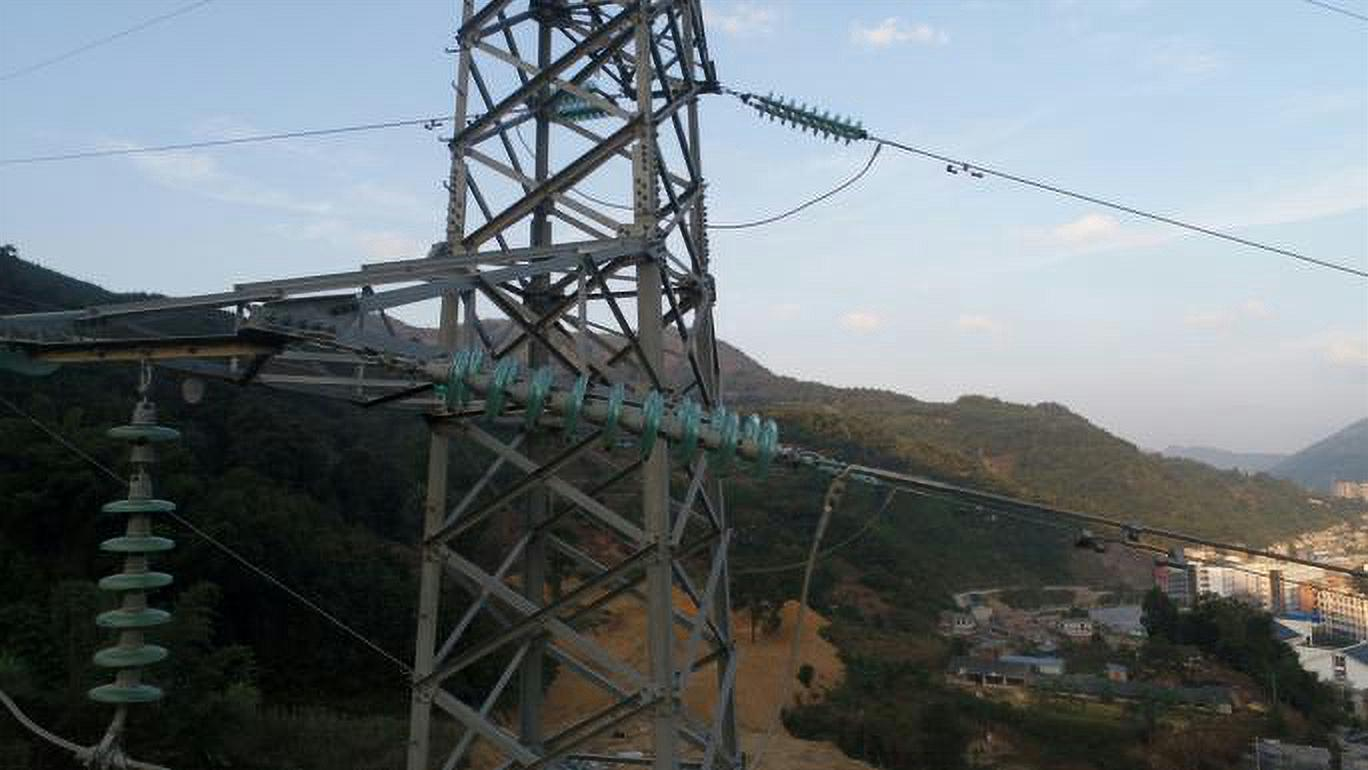insulator: (437, 344, 783, 488), (84, 421, 182, 710), (752, 87, 867, 150)
